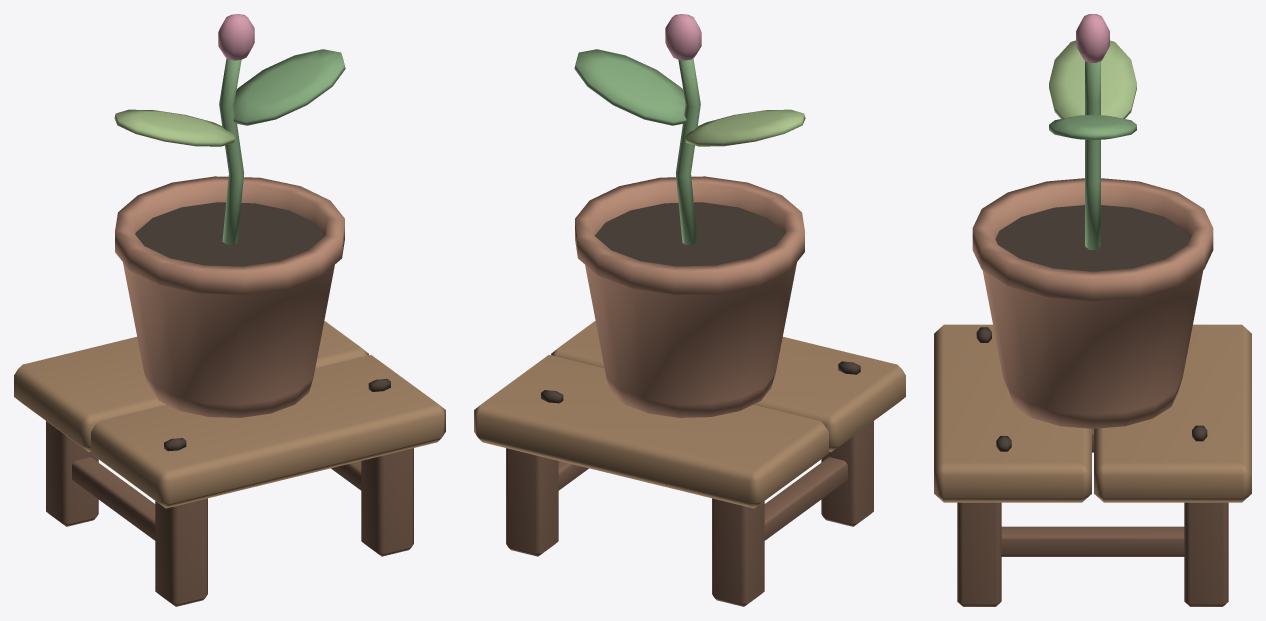
The model's file is seedling_pot.glb.
The picture shows the model from 3 angles, left to right: view 1: azimuth 30°, elevation 25°; view 2: azimuth 150°, elevation 25°; view 3: azimuth 270°, elevation 25°; orthographic projection. The views are drawn at different scales.
Parts seen in each view (by area): view 1: Clay seedling pot, Wooden stool seat, Wooden stool seat.001, Rich potting earth, Little stool leg, Round seed leaf.001, Little stool leg.002, Little stool leg.001, Round seed leaf, Stool cross brace, Tender seedling stem, Fresh closed flower bud; view 2: Clay seedling pot, Wooden stool seat.001, Wooden stool seat, Rich potting earth, Little stool leg.001, Round seed leaf.001, Little stool leg.003, Little stool leg, Round seed leaf, Stool cross brace, Tender seedling stem, Fresh closed flower bud; view 3: Clay seedling pot, Wooden stool seat.001, Wooden stool seat, Rich potting earth, Stool cross brace.001, Little stool leg.002, Little stool leg.003, Round seed leaf, Tender seedling stem, Round seed leaf.001, Fresh closed flower bud.
Boxes of the visible parts, x1,y1,x2,y2 form: Clay seedling pot: (115,176,344,417); Wooden stool seat: (91,355,445,508); Wooden stool seat.001: (14,321,368,451); Rich potting earth: (135,202,324,266); Little stool leg: (155,498,207,606); Round seed leaf.001: (233,49,345,125); Little stool leg.002: (361,448,413,556); Little stool leg.001: (46,421,98,526); Round seed leaf: (114,109,234,146); Stool cross brace: (72,457,155,540); Tender seedling stem: (219,58,244,244); Fresh closed flower bud: (218,14,254,60); Clay seedling pot: (575,176,804,417); Wooden stool seat.001: (474,355,828,508); Wooden stool seat: (551,321,905,451); Rich potting earth: (595,202,784,266); Little stool leg.001: (712,498,764,606); Round seed leaf.001: (574,49,686,125); Little stool leg.003: (506,448,558,556); Little stool leg: (821,421,873,526); Round seed leaf: (685,109,805,146); Stool cross brace: (764,457,847,540); Tender seedling stem: (675,58,700,244); Fresh closed flower bud: (665,14,701,60); Clay seedling pot: (972,178,1213,428); Wooden stool seat.001: (1094,324,1251,502); Wooden stool seat: (934,324,1091,502); Rich potting earth: (995,205,1190,271); Stool cross brace.001: (1001,526,1184,556); Little stool leg.002: (957,502,1001,606); Little stool leg.003: (1184,502,1228,606); Round seed leaf: (1049,40,1136,118); Tender seedling stem: (1085,61,1100,249); Round seed leaf.001: (1049,115,1136,140); Fresh closed flower bud: (1076,14,1109,62).
Size of the model in its own units: 0.35 by 0.6 by 0.322.
